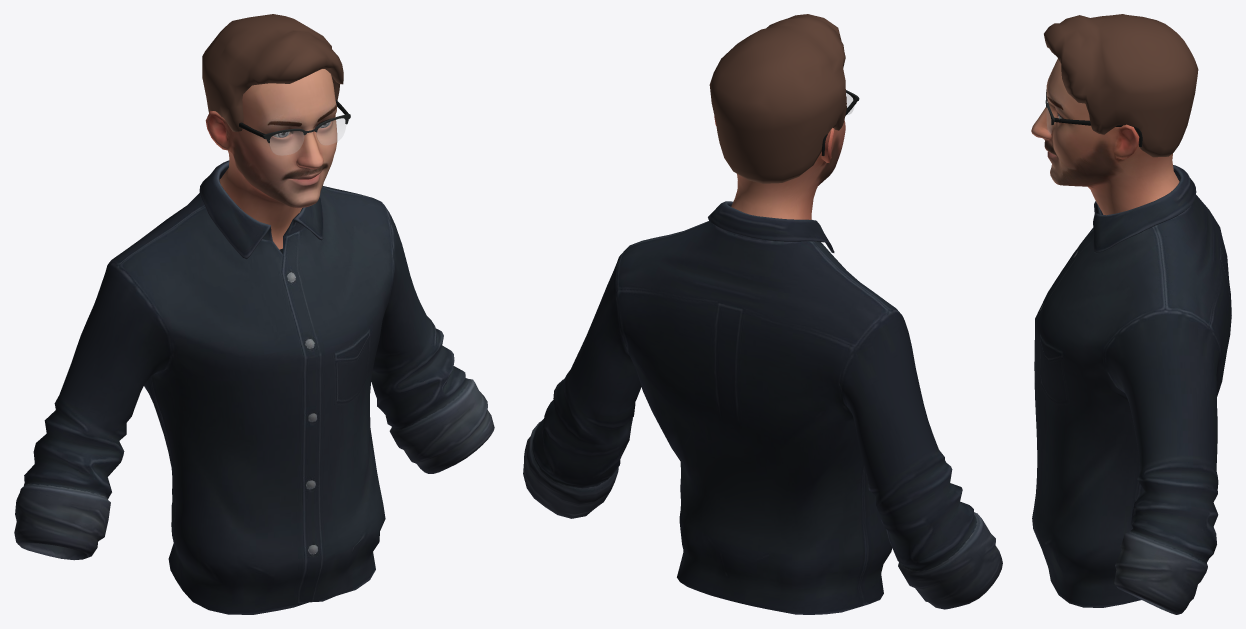
Rendered from portrait.glb.
3 renders of one model, left to right at view 1: azimuth 30°, elevation 25°; view 2: azimuth 150°, elevation 25°; view 3: azimuth 270°, elevation 25°, orthographic.
Parts seen in each view (by area): view 1: object 3, Head, object 1; view 2: object 3, object 1, Head; view 3: object 3, object 1, Head.
Boxes of the visible parts, <box> form: object 3: <box>14,160,494,614</box>; Head: <box>205,69,337,249</box>; object 1: <box>202,14,350,155</box>; object 3: <box>523,201,1002,614</box>; object 1: <box>709,14,859,183</box>; Head: <box>714,116,845,219</box>; object 3: <box>1032,165,1231,614</box>; object 1: <box>1044,14,1198,157</box>; Head: <box>1031,59,1179,215</box>.
Size of the model in its own units: 0.7232 by 0.8226 by 0.272.
Materials: 5 (5 with a texture image).
